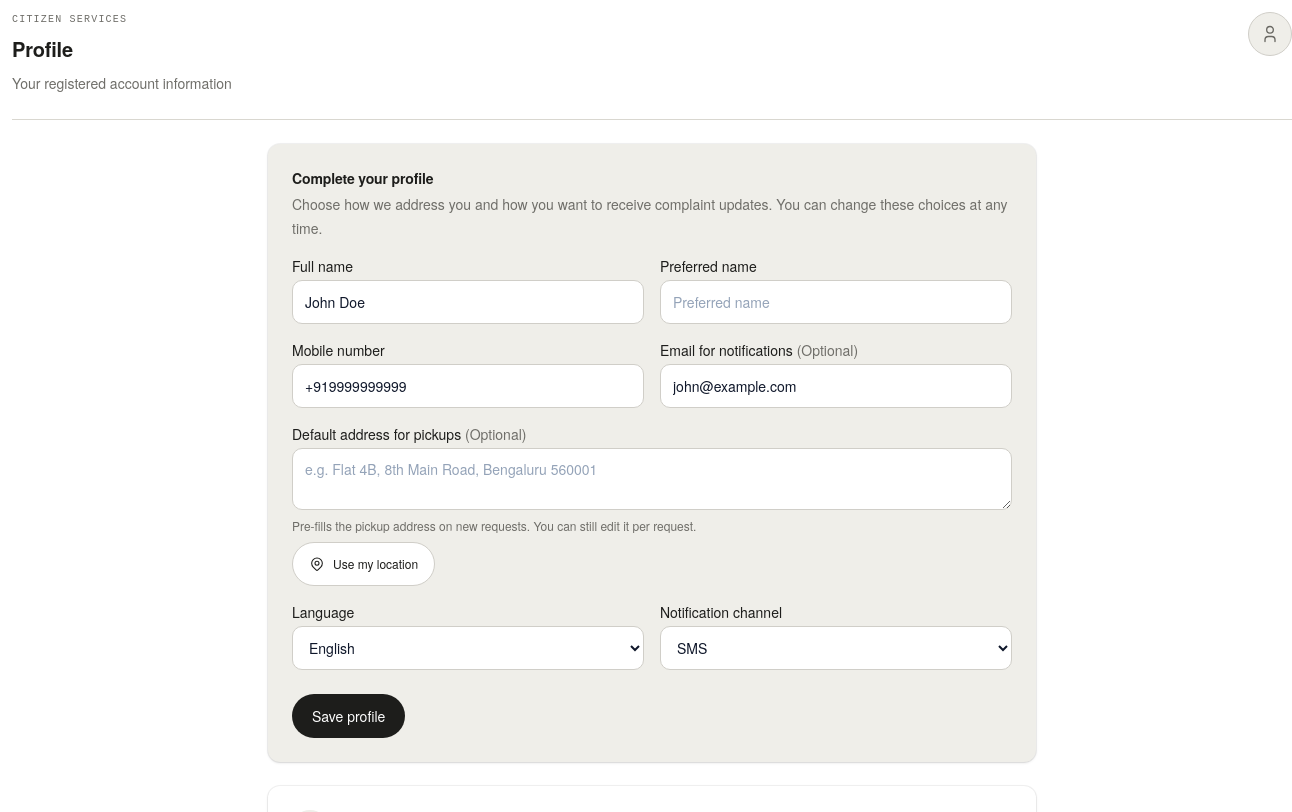
it: ProfilePage › blocks save and shows inline errors for invalid contact fields
The image size is (1292, 812).
Replace the text in the field labelled "Email for notifications (Optional)" with "not-an-email" at (836, 386), box x1=660 y1=364 x2=1012 y2=408
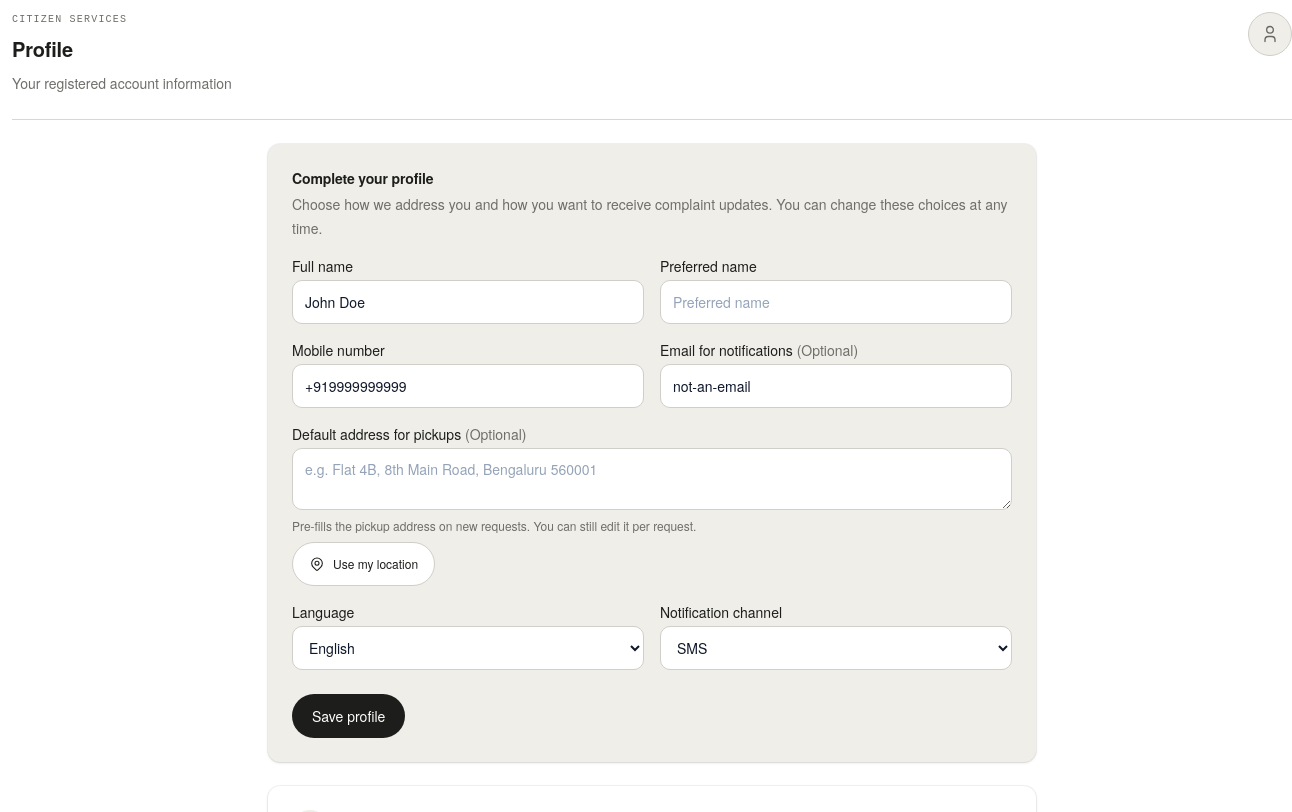
Replace the text in the field labelled "Mobile number" with "abc" at (468, 386), box x1=292 y1=364 x2=644 y2=408
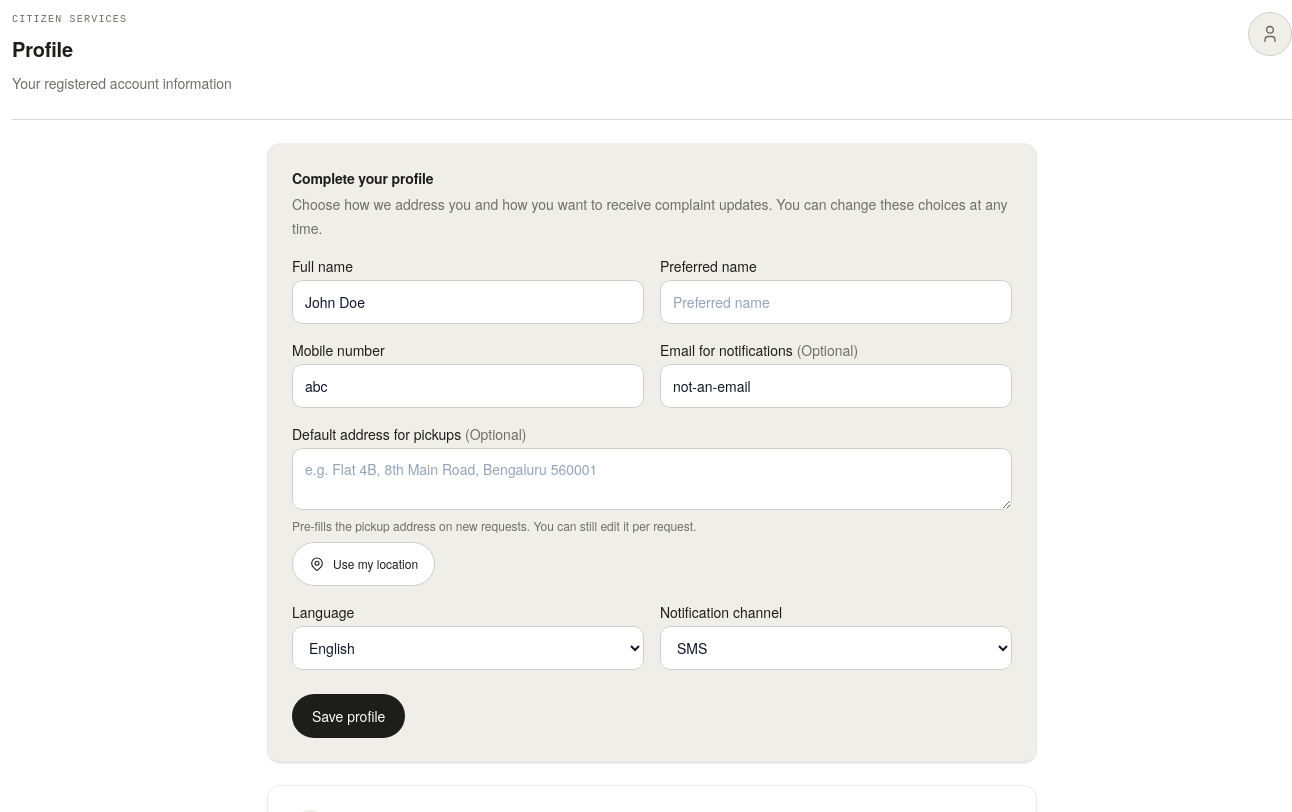
Type "short" into the text box labelled "Default address" at (652, 479), box x1=292 y1=448 x2=1012 y2=510
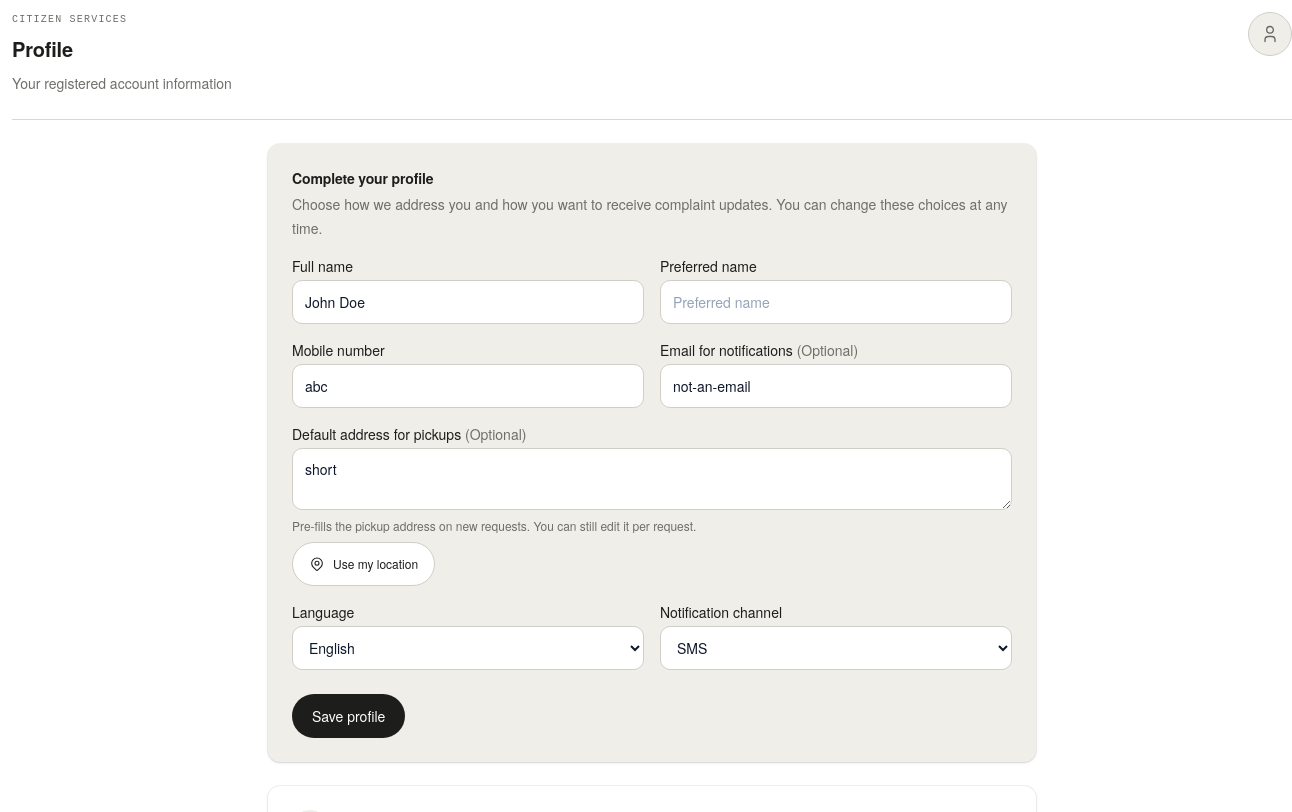
Click the button "Save profile" at (349, 716), box x1=292 y1=694 x2=405 y2=738
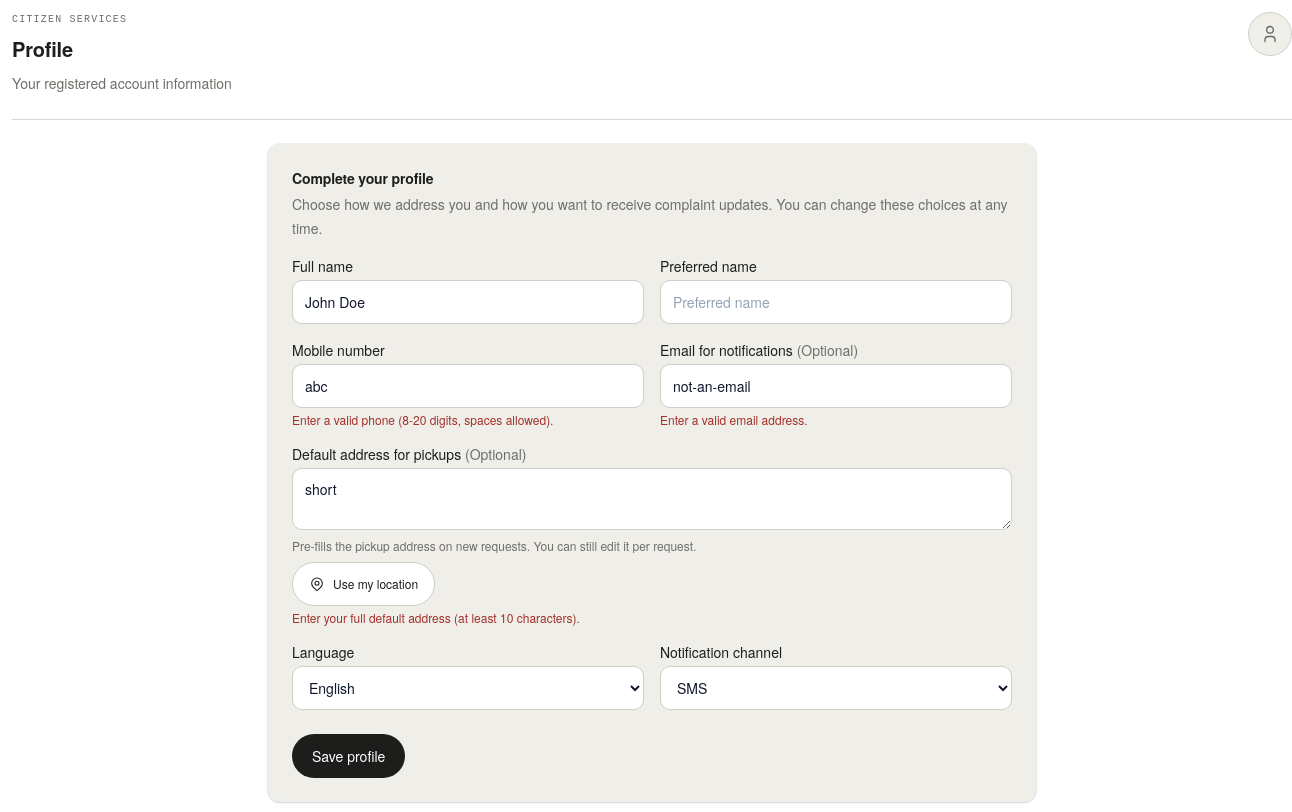
expect the text "Enter a valid email address." is shown: met, box x1=660 y1=411 x2=808 y2=428
expect the text "Enter a valid phone (8-20 digits, spaces allowed)." is shown: met, box x1=292 y1=411 x2=554 y2=428
expect the text "Enter your full default address (at least 10 characters)." is shown: met, box x1=292 y1=609 x2=580 y2=626
